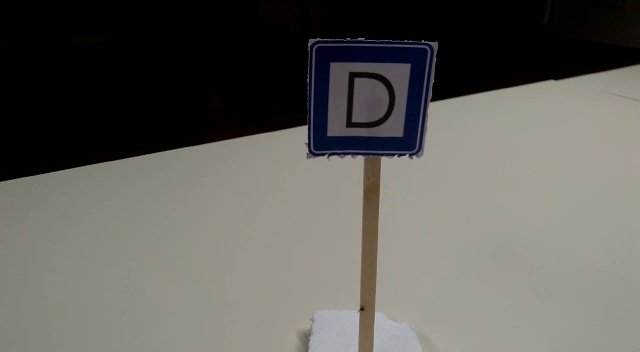durak: (306, 44, 434, 156)
